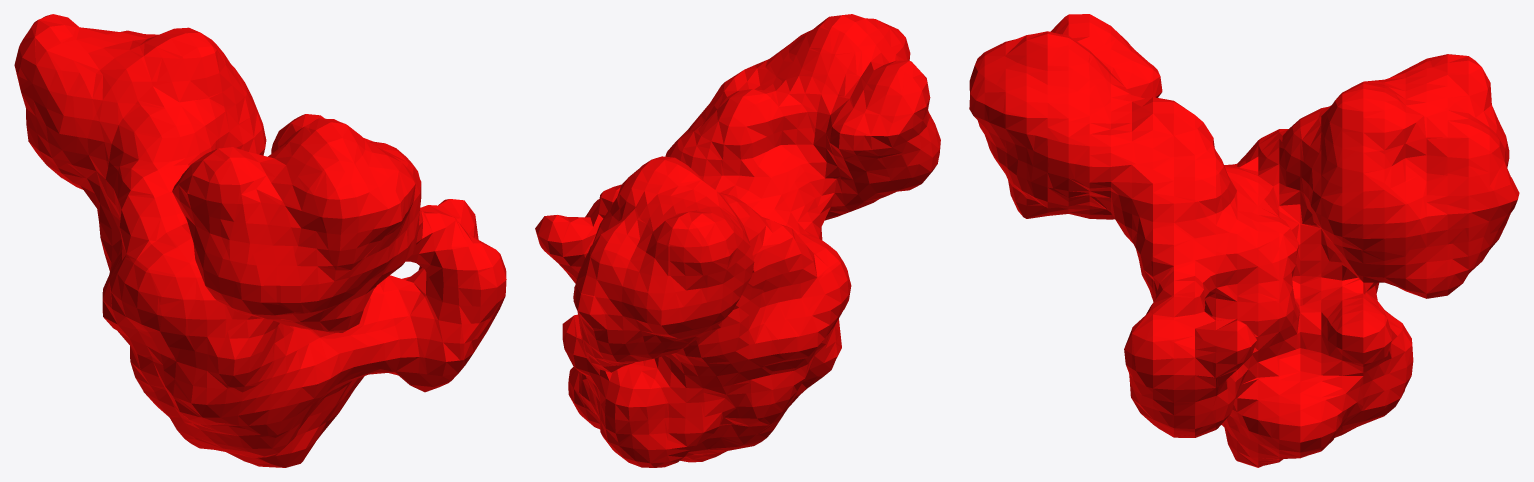
File: aspS_coarse.dae
The picture shows the model from 3 angles, left to right: view 1: azimuth 30°, elevation 25°; view 2: azimuth 150°, elevation 25°; view 3: azimuth 270°, elevation 25°; orthographic projection. The views are drawn at different scales.
Parts seen in each view (by area): view 1: aspS; view 2: aspS; view 3: aspS.
Boxes of the visible parts, left/top/right/bottom form: aspS: left=14, top=14, right=506, bottom=467; aspS: left=535, top=14, right=940, bottom=467; aspS: left=969, top=14, right=1519, bottom=467.
Size of the model in its own units: 69.21 by 79.56 by 98.7.
